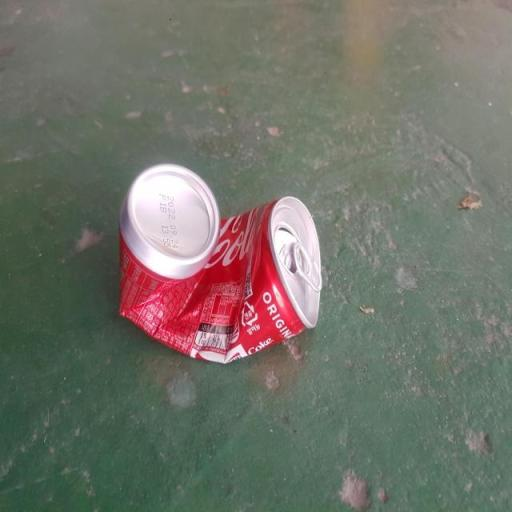metal: (97, 134, 350, 390)
